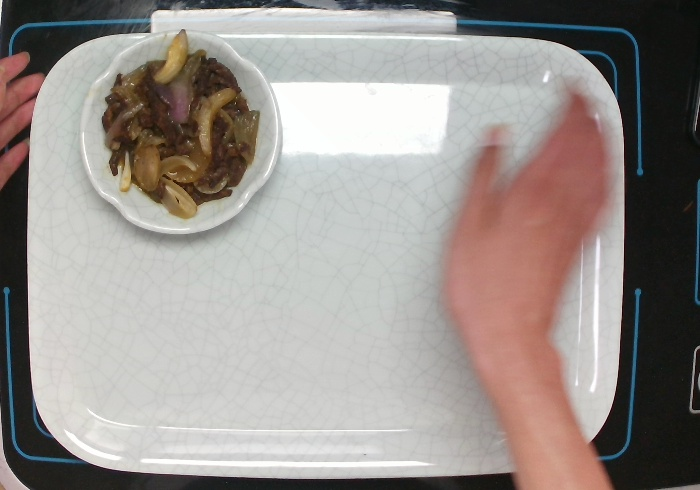JYsf-Ao_Yuan_Wan: (77, 29, 282, 237)
